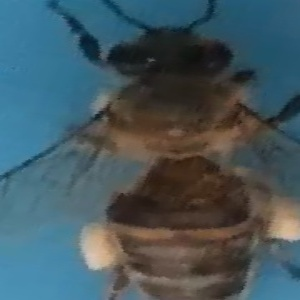bee: (73, 2, 300, 300)
